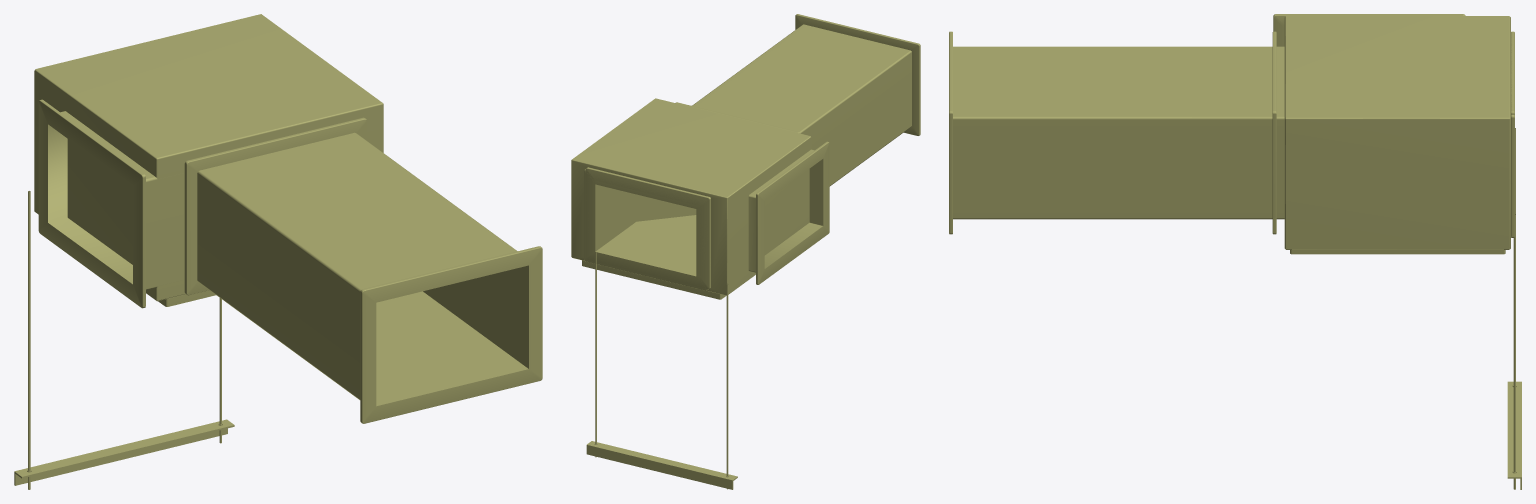
The model's file is ventilation_sistem.fbx.
3 views of the same model, side by side, from view 1: azimuth 30°, elevation 25°; view 2: azimuth 150°, elevation 25°; view 3: azimuth 270°, elevation 25° (orthographic). The views are drawn at different scales.
Parts seen in each view (by area): view 1: ventilation_box_1, ventilation_grate, ventilation_box_2, box_suspension, ventilation_box_3; view 2: ventilation_box_1, ventilation_grate, ventilation_box_2, box_suspension, ventilation_box_3; view 3: ventilation_box_1, ventilation_grate, box_suspension, ventilation_box_2, ventilation_box_3.
Part boxes in pixels (x1,y1,x2,y2): ventilation_box_1: (197, 132, 542, 423); ventilation_grate: (34, 14, 383, 306); ventilation_box_2: (38, 99, 184, 308); box_suspension: (14, 191, 234, 489); ventilation_box_3: (184, 117, 366, 295); ventilation_box_1: (585, 14, 920, 288); ventilation_grate: (571, 98, 811, 299); ventilation_box_2: (584, 141, 829, 290); box_suspension: (586, 252, 737, 489); ventilation_box_3: (587, 102, 799, 289); ventilation_box_1: (949, 31, 1514, 234); ventilation_grate: (1284, 16, 1514, 254); box_suspension: (1507, 128, 1521, 489); ventilation_box_2: (1273, 14, 1514, 237); ventilation_box_3: (1272, 31, 1284, 234).
Size of the model in its own units: 46.65 by 75.79 by 101.
